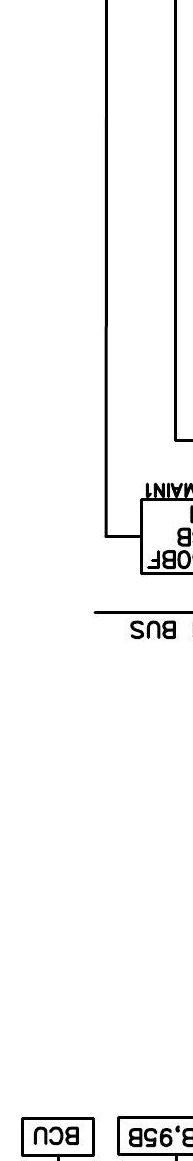BCU: (20, 1116, 96, 1158)
